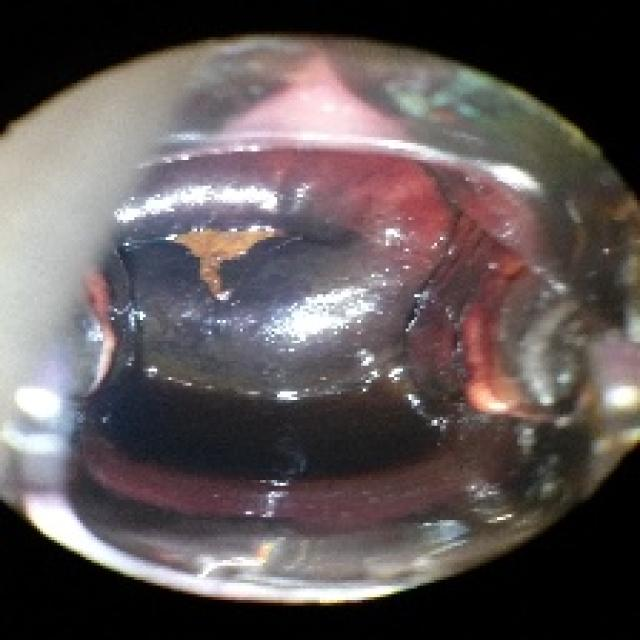type-2: (0, 78, 584, 526)
